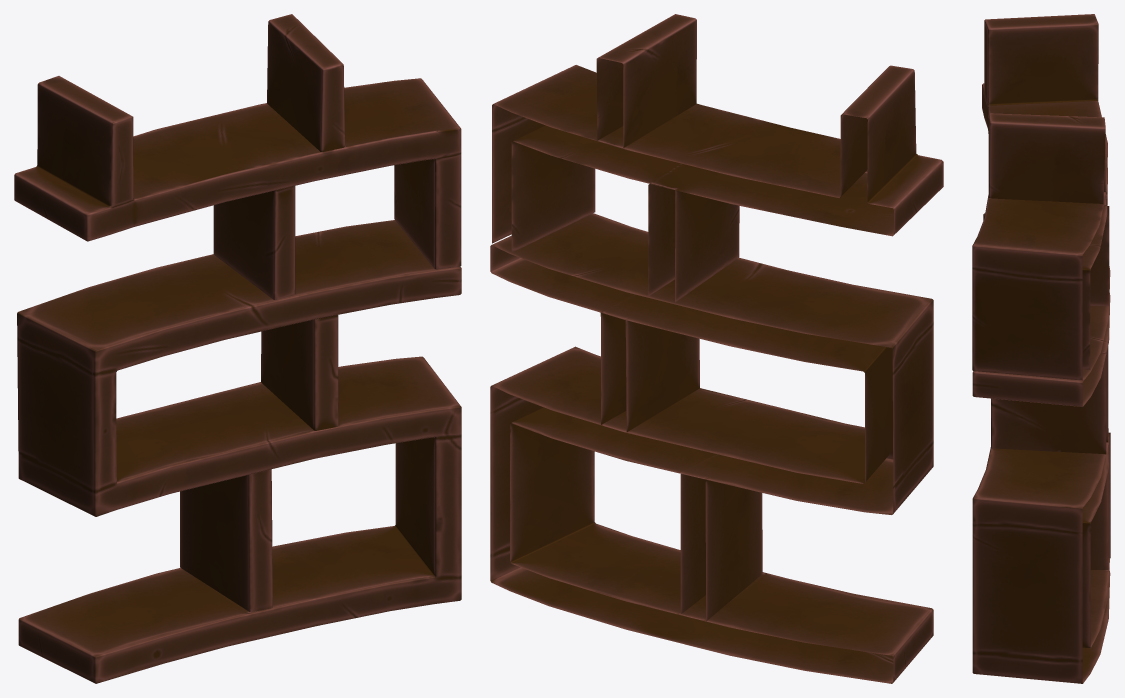
File: SM_BookShelf_04_Empty.fbx
3 views of the same model, side by side, from view 1: azimuth 30°, elevation 25°; view 2: azimuth 150°, elevation 25°; view 3: azimuth 270°, elevation 25° (orthographic). The views are drawn at different scales.
Parts seen in each view (by area): view 1: SM_BookShelf_04_Empty_LOD0; view 2: SM_BookShelf_04_Empty_LOD0; view 3: SM_BookShelf_04_Empty_LOD0.
Boxes of the visible parts, box(x1,y1,x2,y2) form: SM_BookShelf_04_Empty_LOD0: box(14, 14, 461, 683); SM_BookShelf_04_Empty_LOD0: box(490, 14, 943, 683); SM_BookShelf_04_Empty_LOD0: box(972, 14, 1110, 683).
Size of what is drawn, in the model's own units: 2.41 by 3.17 by 0.7896.
